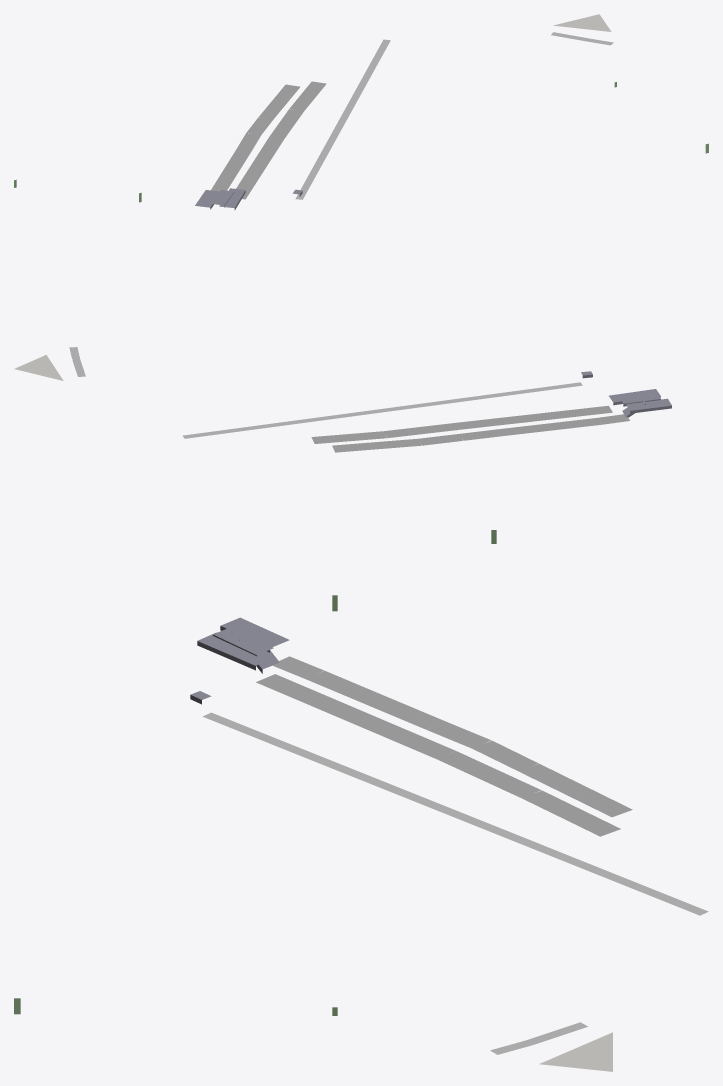
3 renders of one model, top to bottom at view 1: azimuth 30°, elevation 25°; view 2: azimuth 150°, elevation 25°; view 3: azimuth 270°, elevation 25°, orthographic. The views are drawn at different scales.
Size of the model in its own units: 469 by 9.85 by 262.
